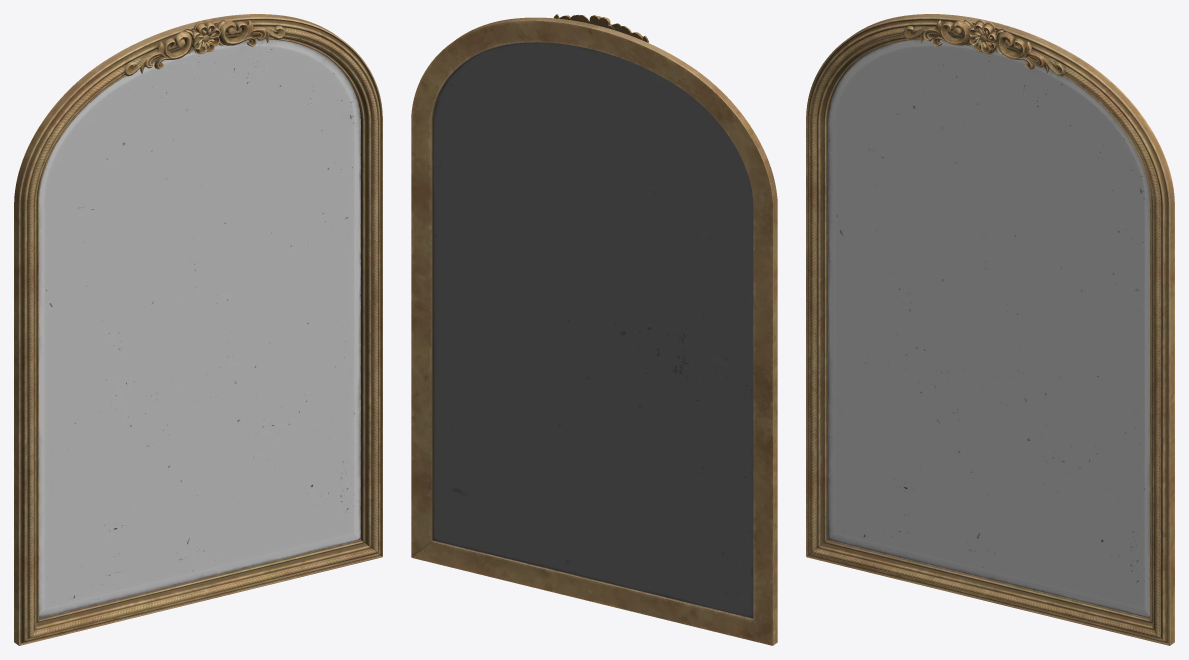
The model's file is ornate_mirror_01.glb.
3 renders of one model, left to right at view 1: azimuth 30°, elevation 25°; view 2: azimuth 150°, elevation 25°; view 3: azimuth 330°, elevation 25°, orthographic.
Parts seen in each view (by area): view 1: ornate_mirror_01; view 2: ornate_mirror_01; view 3: ornate_mirror_01.
Part boxes in pixels (bbox=[...]): ornate_mirror_01: bbox=[14, 14, 382, 645]; ornate_mirror_01: bbox=[411, 14, 777, 645]; ornate_mirror_01: bbox=[806, 14, 1174, 645].
Bounding box in the file's own units: 0.4865 × 0.7442 × 0.026.
1 material, 1 textured.
